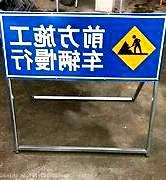sign: (2, 13, 161, 79)
